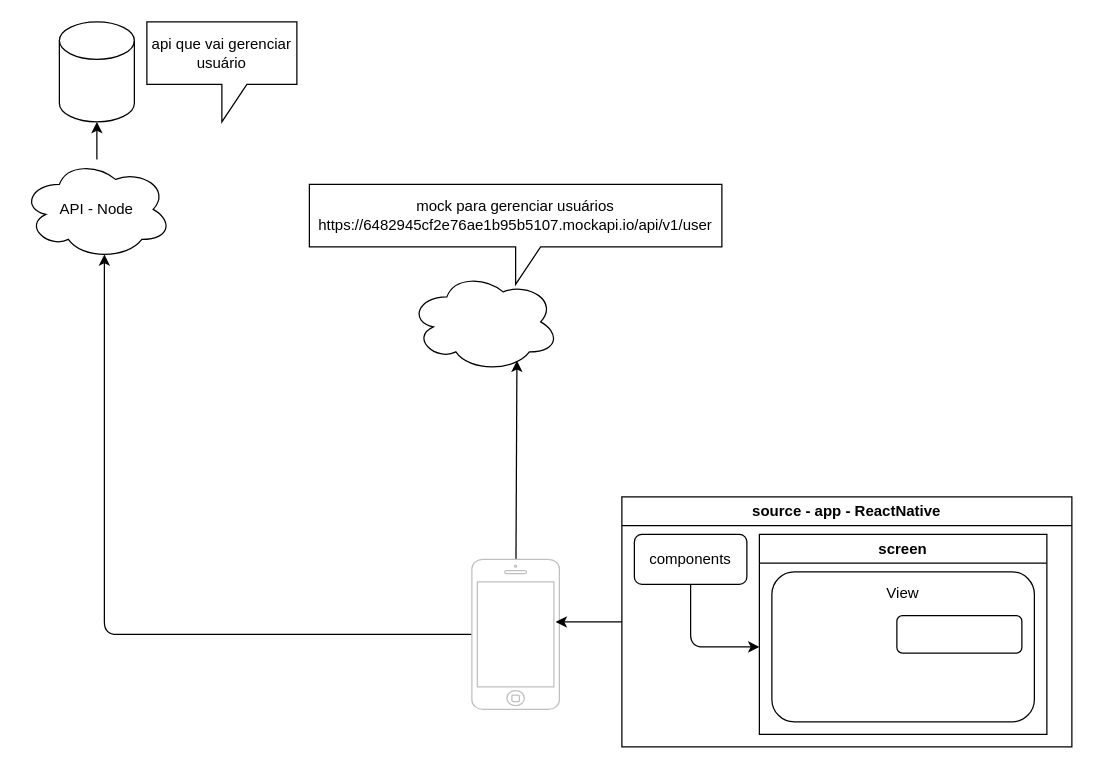
Some shapes in this 1094 by 769 pixel diagram are drawn without their labels. The shapes that lost their labels are listed below. From the top down, each one's centre as x and y in pixels, then its label:
At point 96,71: "mongoDB".
At point 483,321: "API Mock".
At point 959,633: "viewModel".
